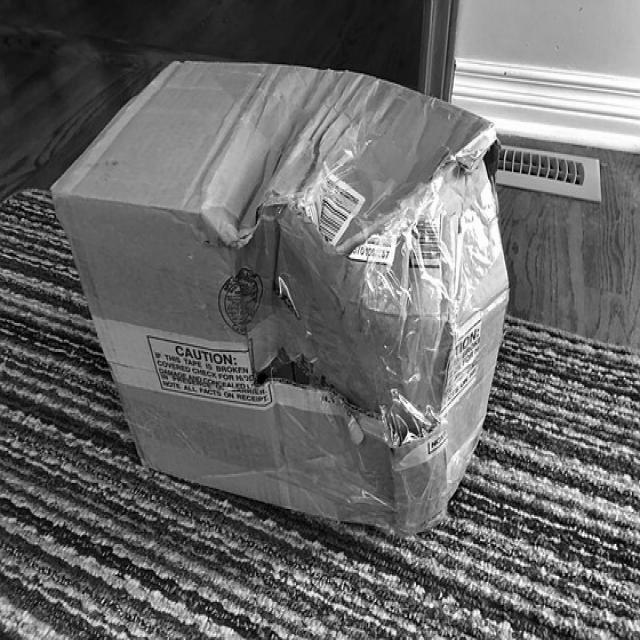hole: (251, 352, 367, 412)
